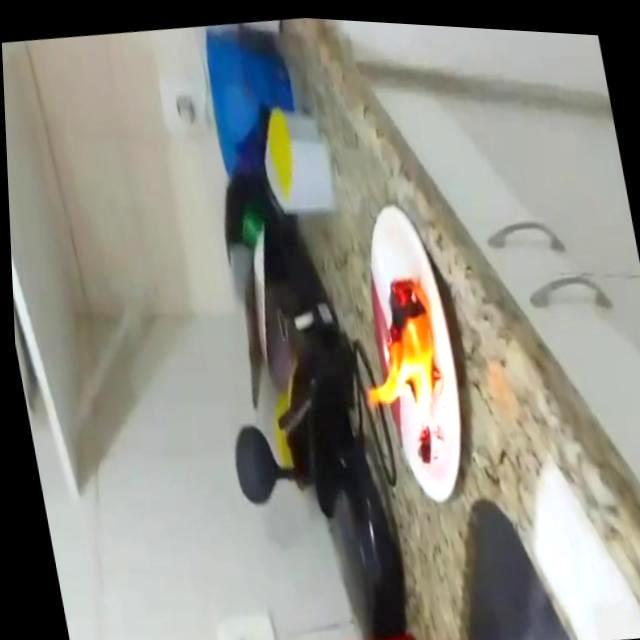fire: (341, 258, 451, 426)
